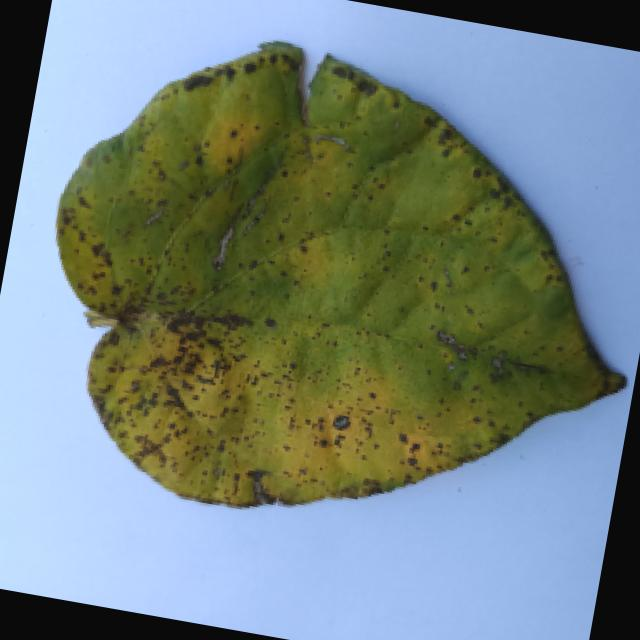slow-decline: (7, 13, 640, 587)
